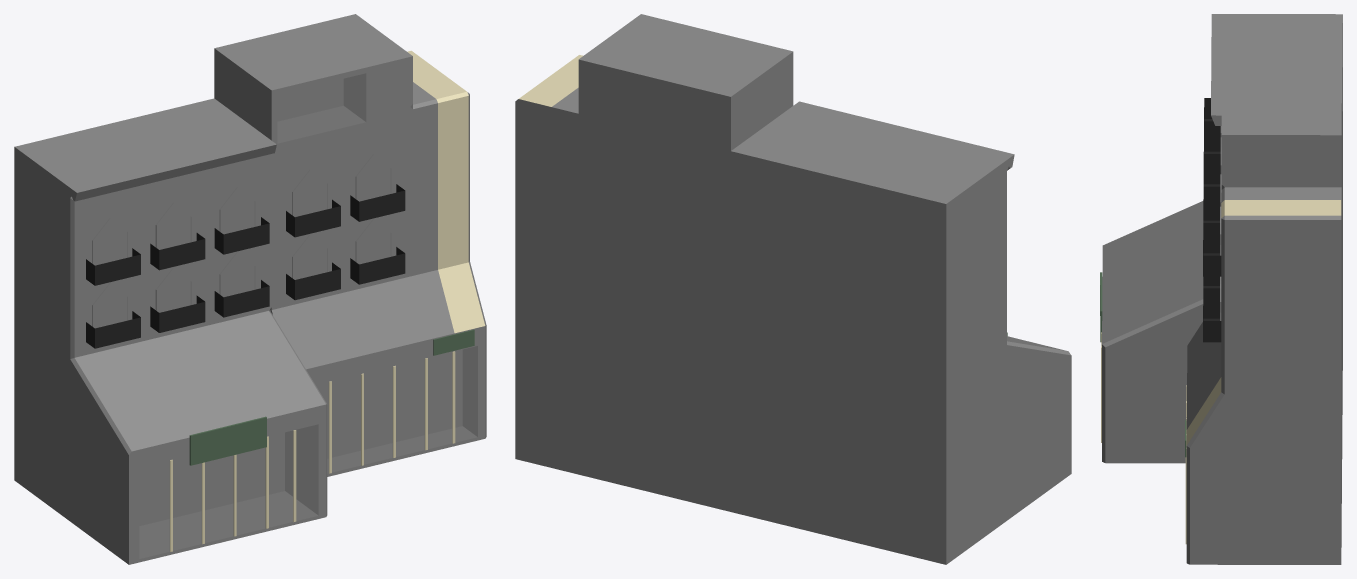
The model's file is Building05fbx.fbx.
The picture shows the model from 3 angles, left to right: view 1: azimuth 30°, elevation 25°; view 2: azimuth 150°, elevation 25°; view 3: azimuth 270°, elevation 25°; orthographic projection. The views are drawn at different scales.
Parts seen in each view (by area): view 1: Building05; view 2: Building05; view 3: Building05.
Boxes of the visible parts, x1,y1,x2,y2 form: Building05: (14,14,486,564); Building05: (515,14,1071,564); Building05: (1100,14,1342,564).
Bounding box in the file's own units: 3623 × 3325 × 1829.
